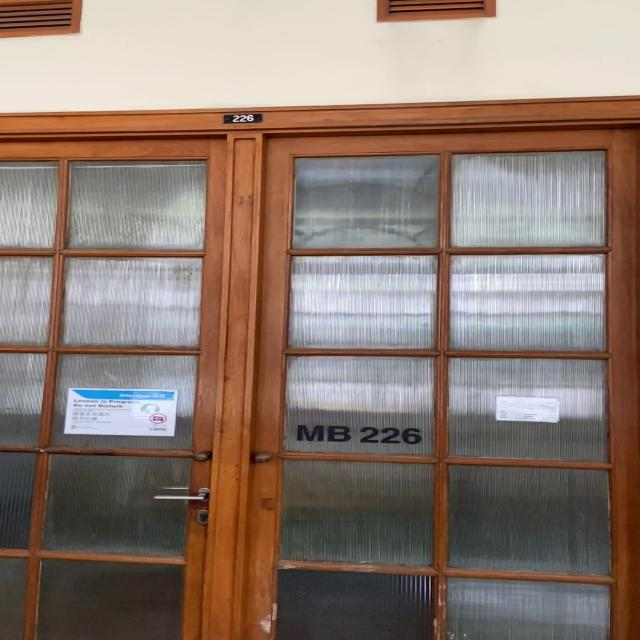room226: (222, 112, 263, 124)
room226Window: (294, 420, 425, 448)
